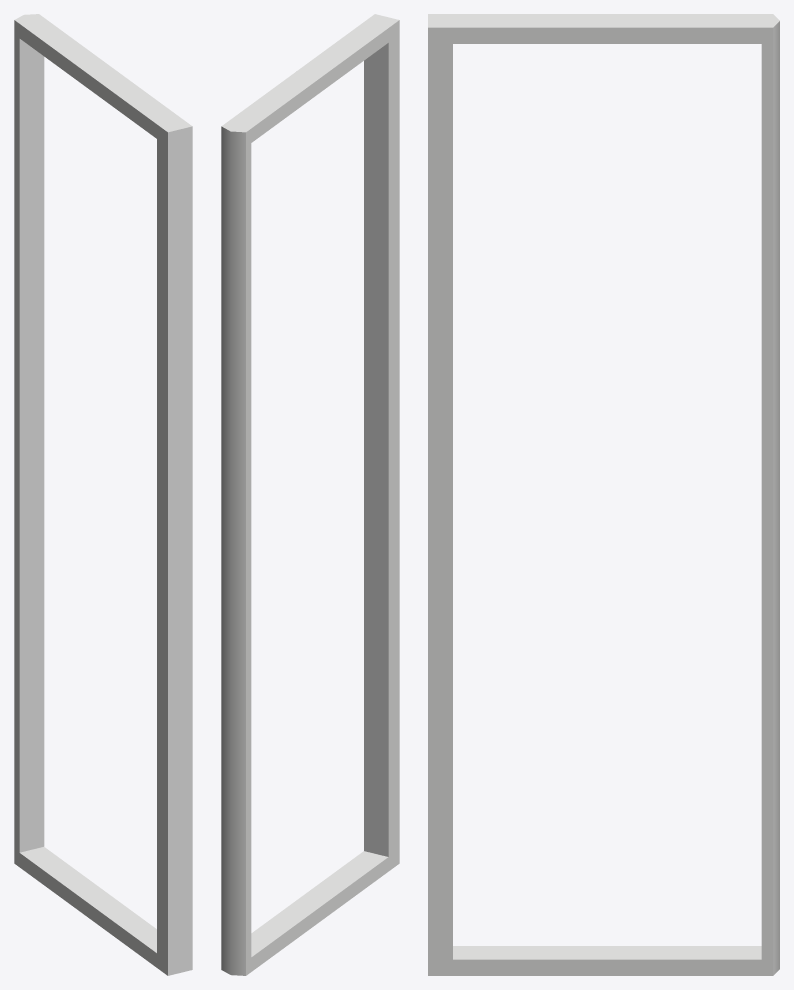
Rendered from door.FBX.
3 renders of one model, left to right at view 1: azimuth 30°, elevation 25°; view 2: azimuth 150°, elevation 25°; view 3: azimuth 270°, elevation 25°, orthographic. The views are drawn at different scales.
Visible parts, largest first — view 1: Object002_Object002_auv; view 2: Object002_Object002_auv; view 3: Object002_Object002_auv.
Part boxes in pixels (left/top/right/bottom): Object002_Object002_auv: left=14, top=14, right=192, bottom=975; Object002_Object002_auv: left=221, top=14, right=399, bottom=975; Object002_Object002_auv: left=428, top=14, right=779, bottom=975.
Bounding box in the file's own units: 19.23 × 629 × 211.
